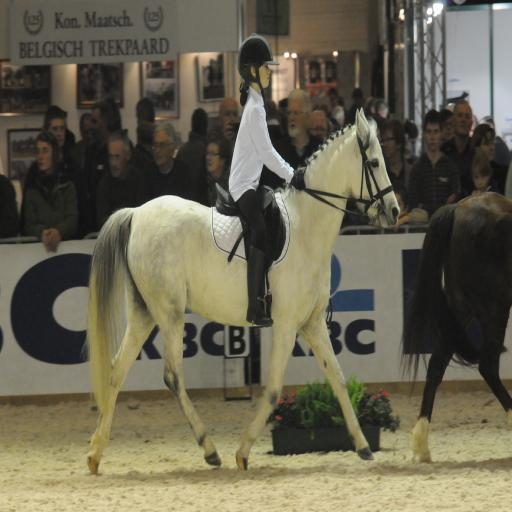horse: (83, 104, 403, 474), (398, 192, 512, 462)
